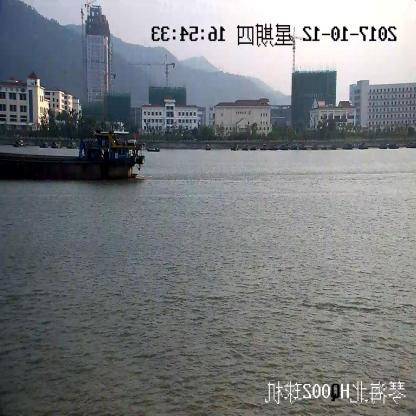Bulk Carrier: (1, 132, 144, 177)
